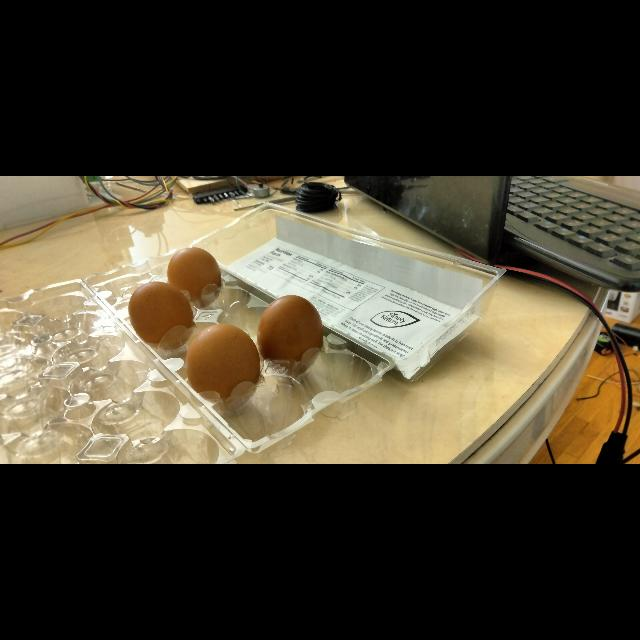Egg: (182, 321, 262, 422), (254, 288, 328, 384), (122, 277, 200, 353), (164, 242, 230, 312)
